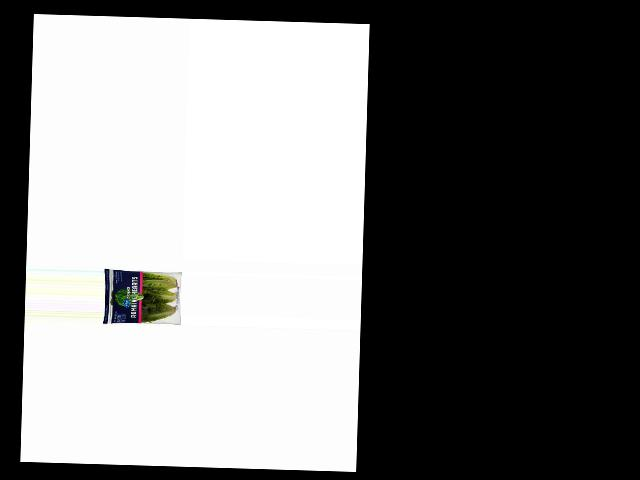lettuce: (104, 266, 180, 328)
